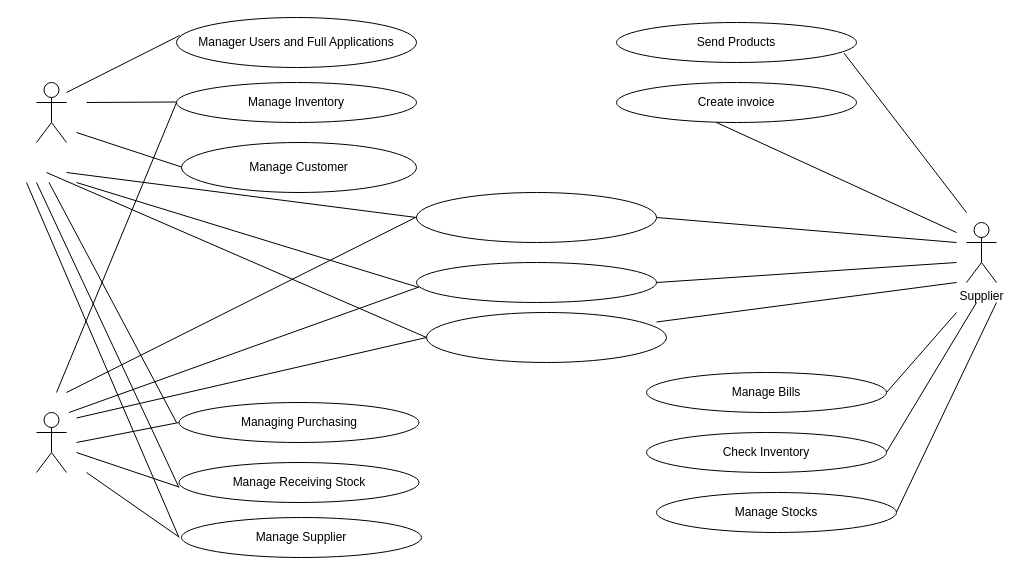
Image size: 1021x575. Some labels were removed from this diagram. The centre of each missing label's shape, as x and y in pixels:
Change Account Password: (x=546, y=337)
Login and Logout from System: (x=536, y=217)
Super Admin: (x=51, y=112)
System User: (x=51, y=442)
Update My Profile: (x=536, y=282)
